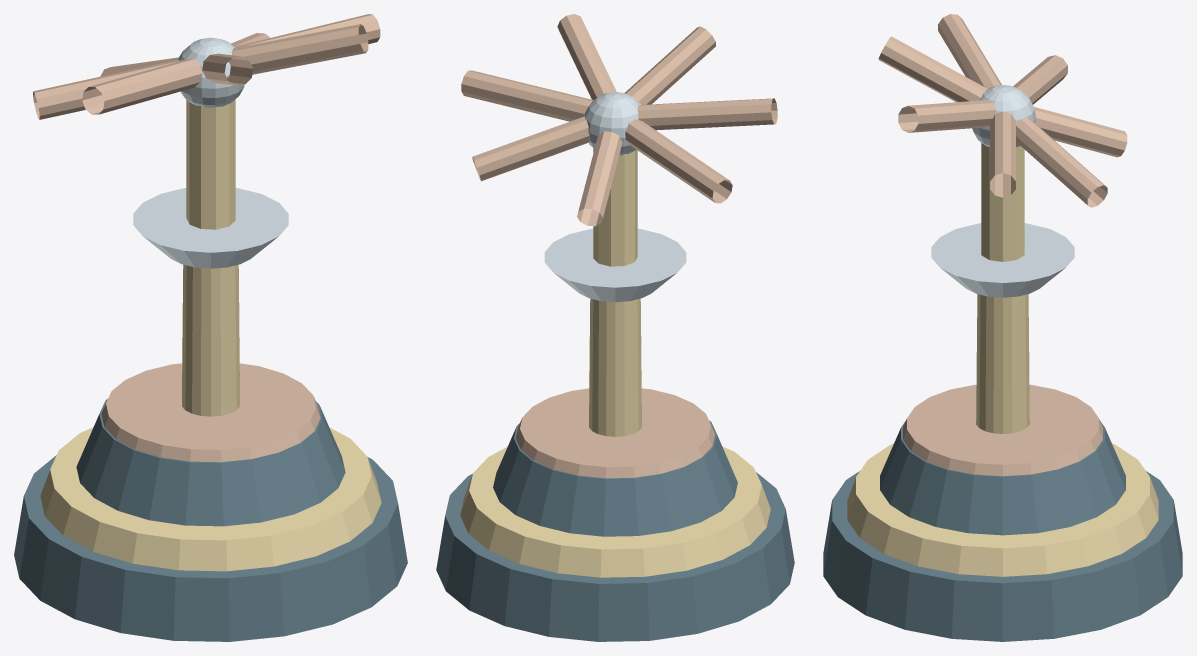
File: palmetto-showdown.glb
The picture shows the model from 3 angles, left to right: view 1: azimuth 30°, elevation 25°; view 2: azimuth 150°, elevation 25°; view 3: azimuth 270°, elevation 25°; orthographic projection. The views are drawn at different scales.
Bounding box in the file's own units: 1.2 × 1.87 × 1.19.
